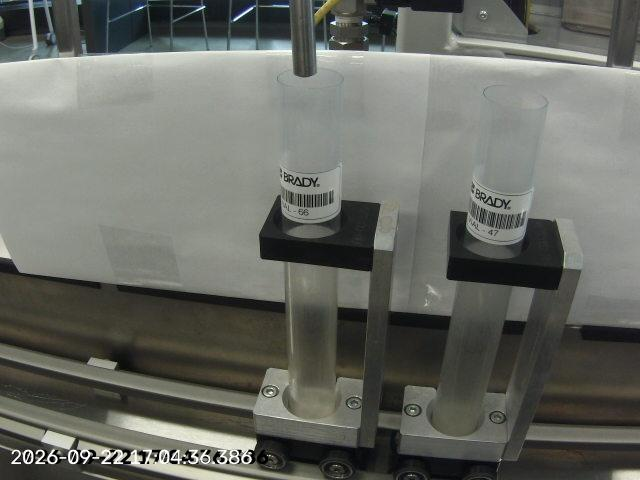vial: (426, 84, 554, 438), (275, 66, 345, 421)
